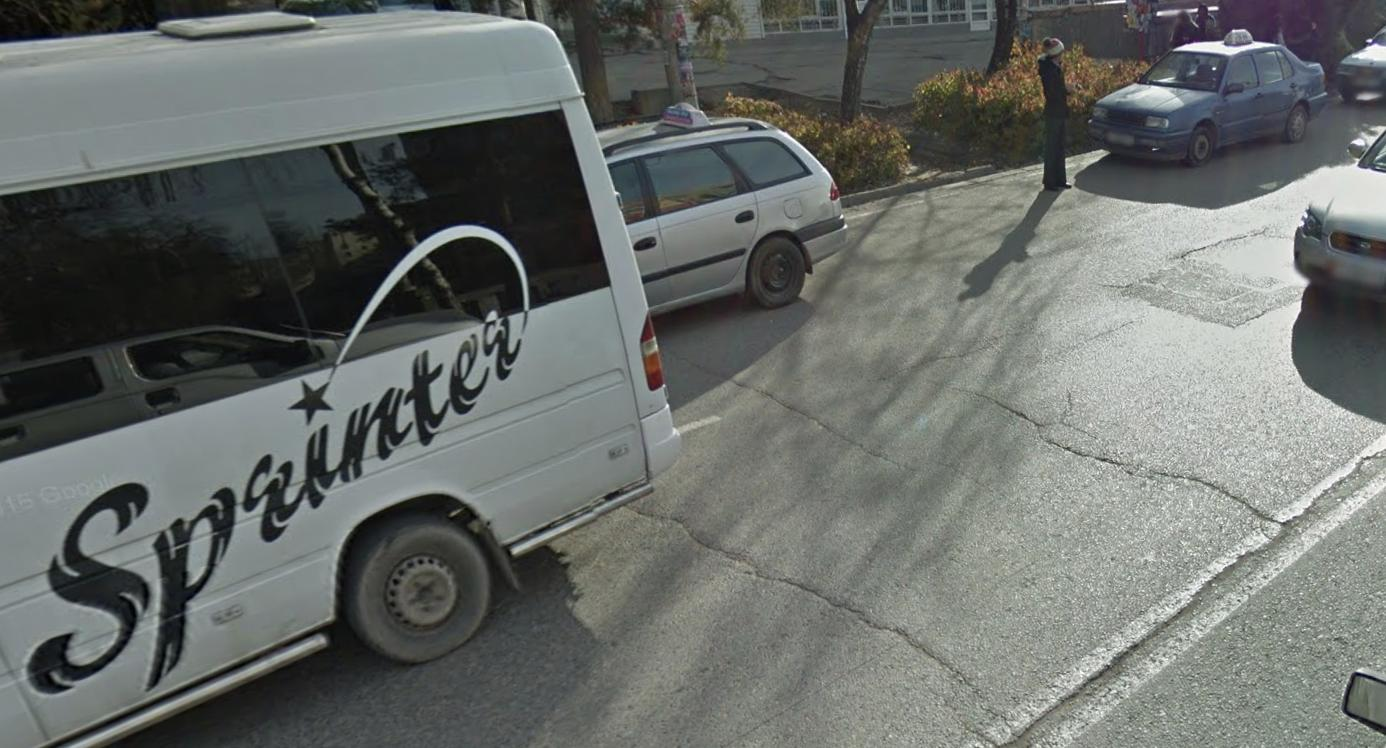longitudinal_crack: (969, 369, 1304, 537)
pothole: (663, 509, 1026, 734)
